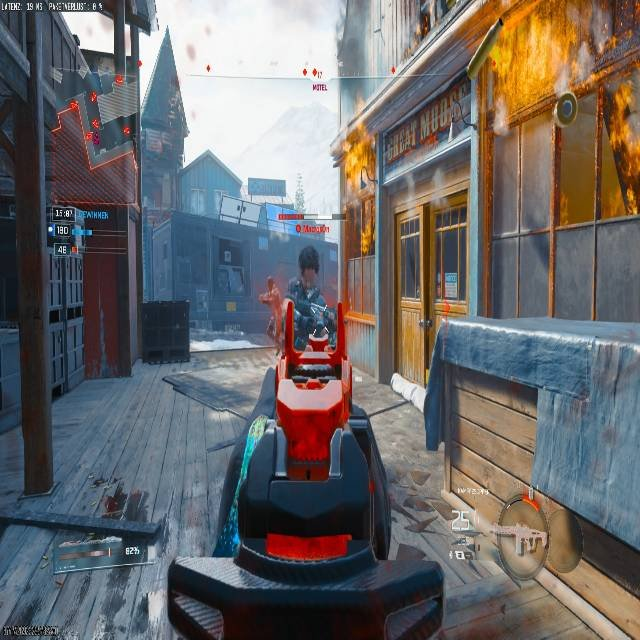head: (297, 246, 320, 285)
player: (286, 246, 332, 352), (258, 278, 283, 349)
